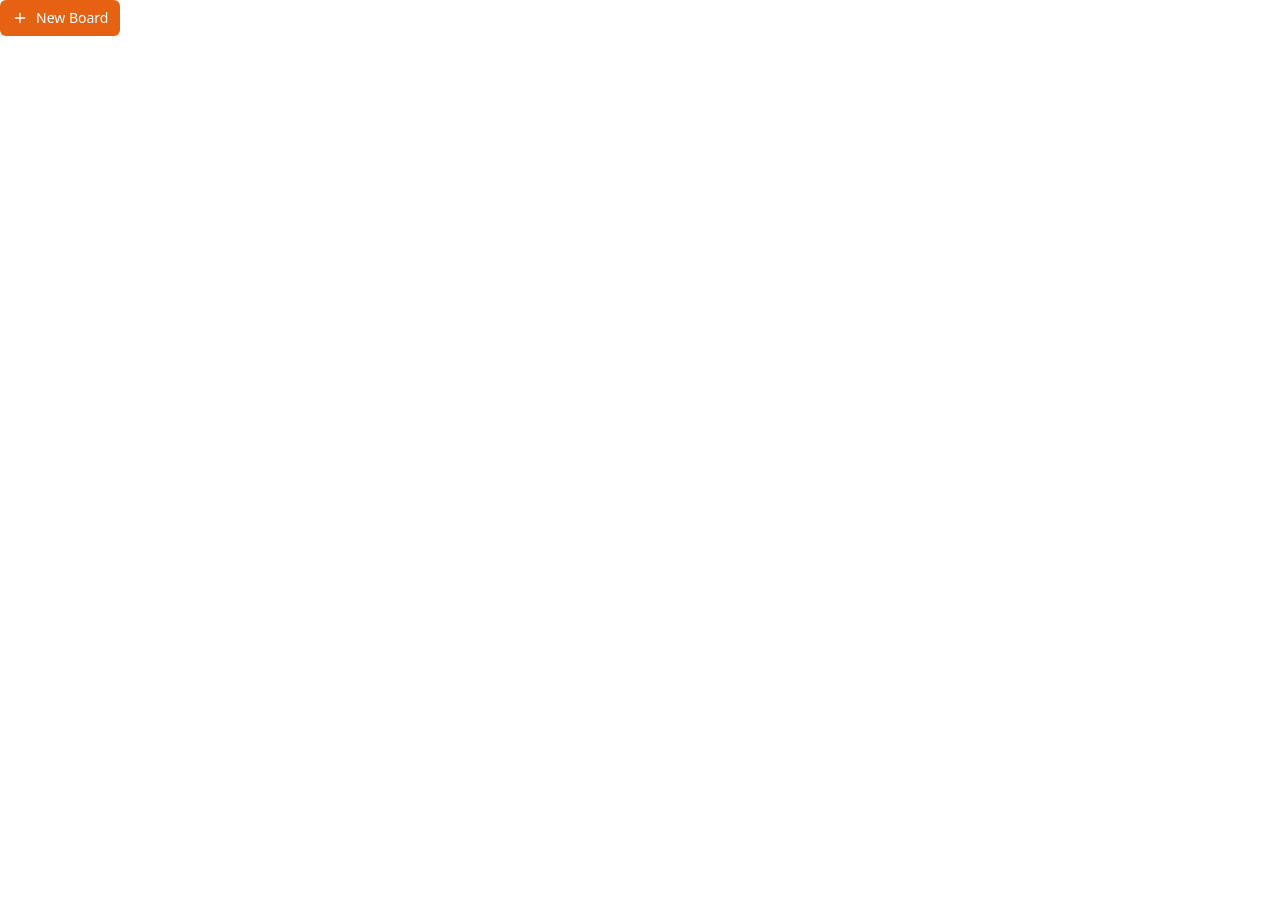
Test: CreateBoardDialog › closes dialog when cancel button is clicked
Click the button "New Board" at coordinates (60, 18), box top-left (0, 0), bottom-right (120, 36)
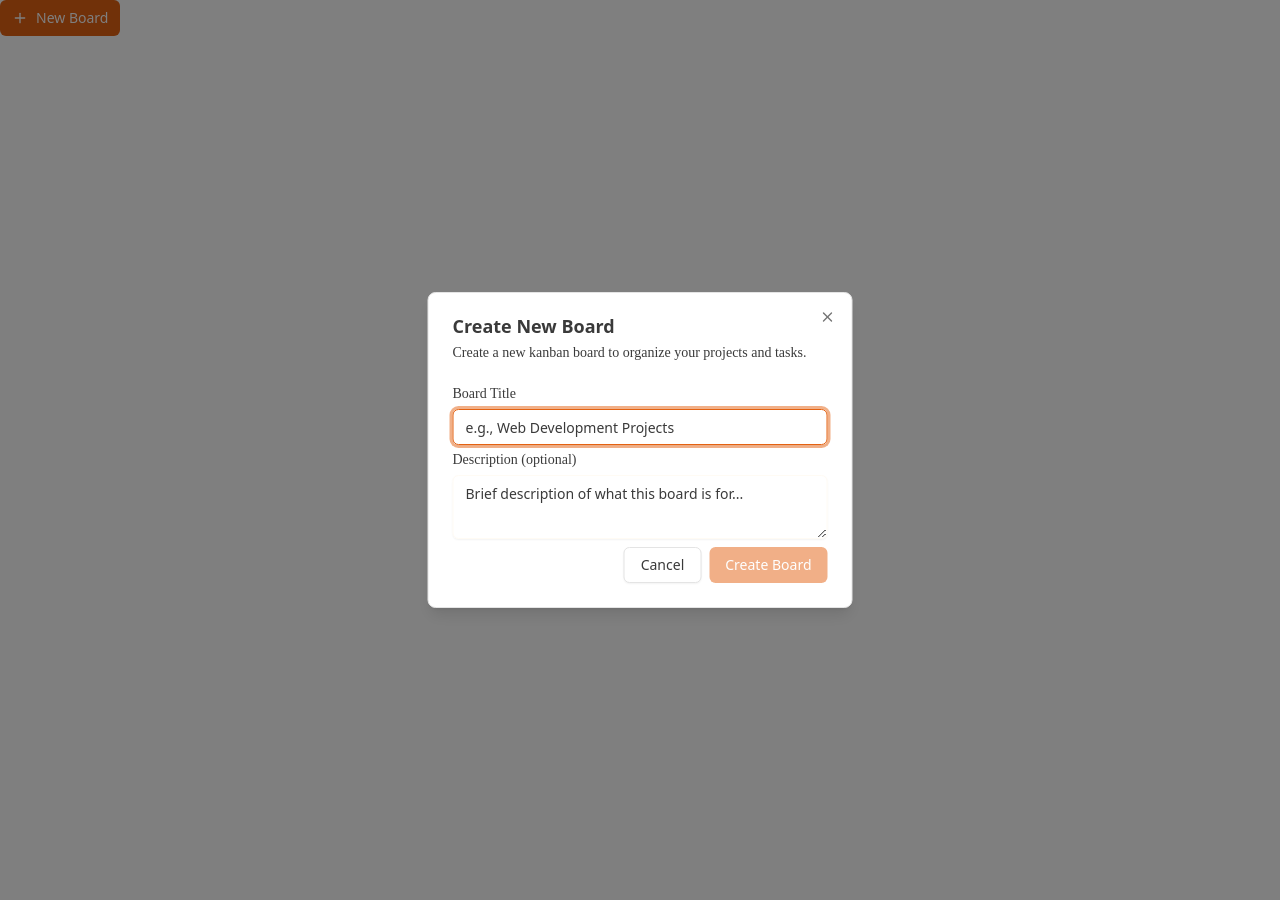
Result: the dialog is shown at top-left (428, 292), bottom-right (852, 608)
Click the button "Cancel" at coordinates (662, 565), box top-left (624, 547), bottom-right (701, 583)
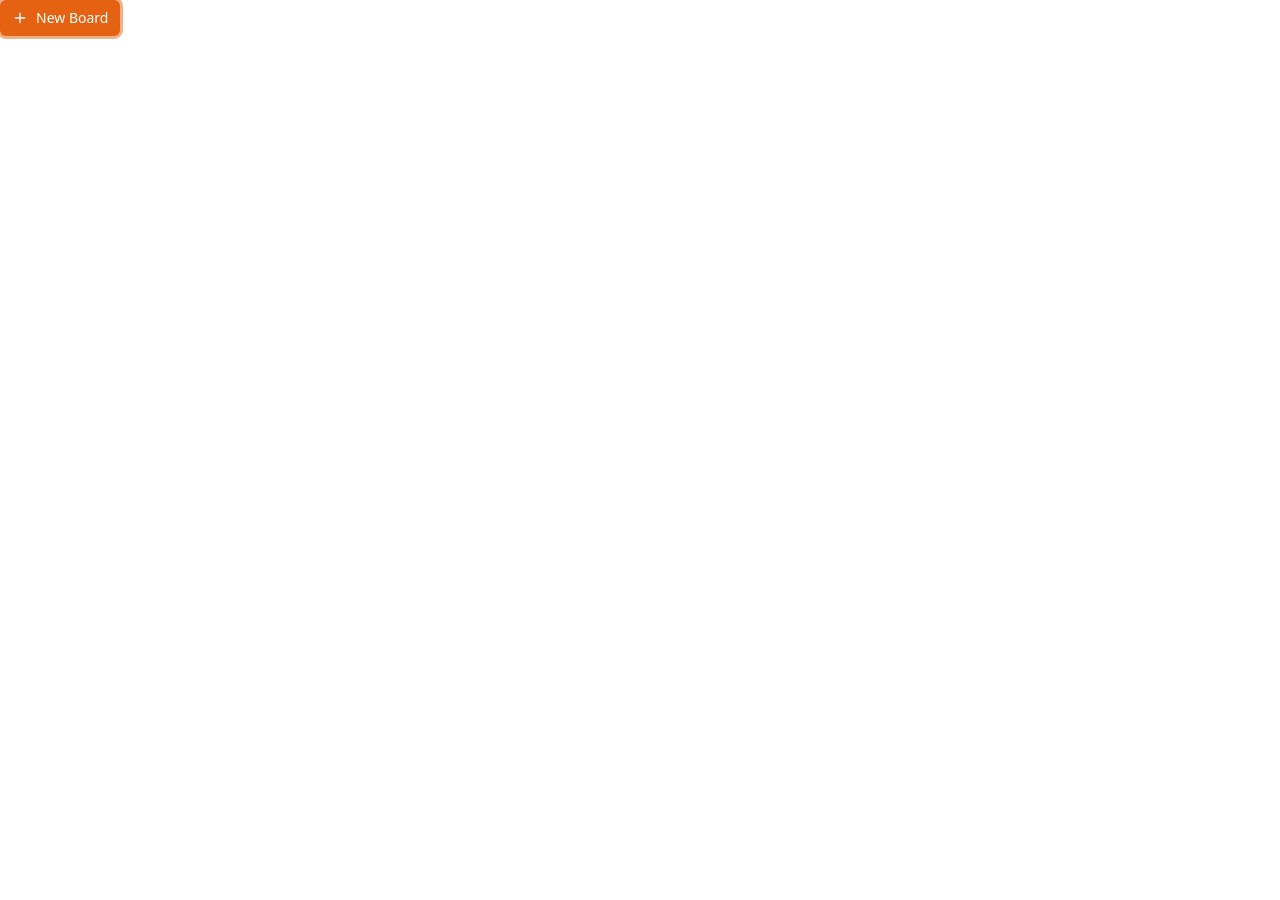
Result: the dialog is gone
